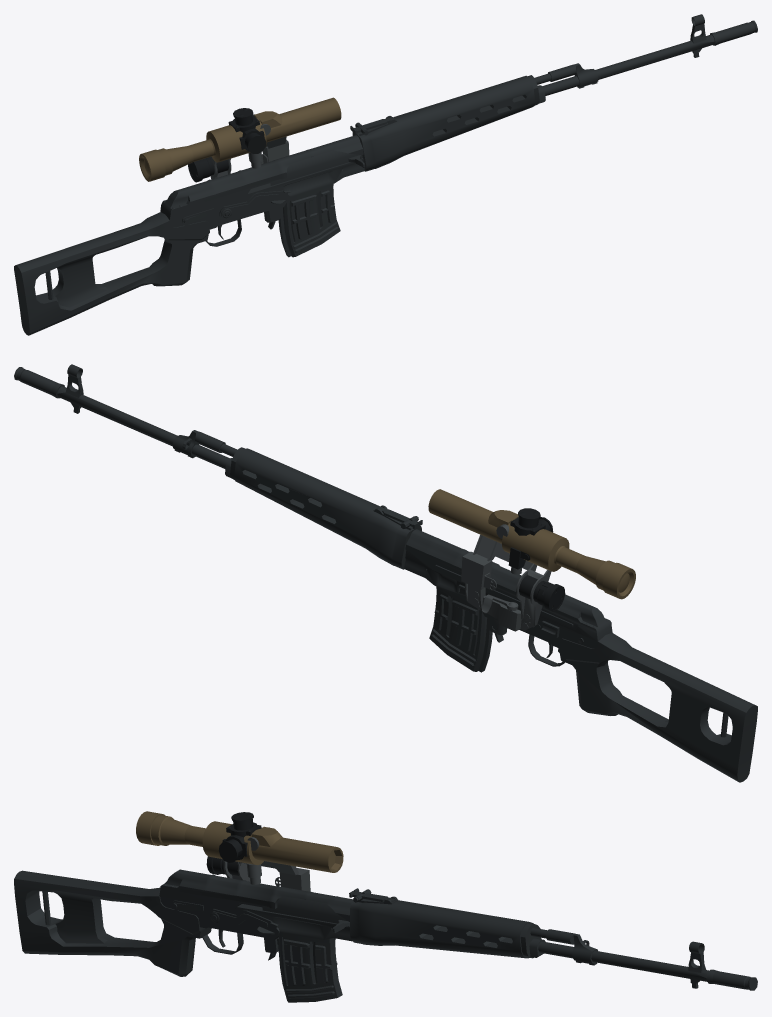
File: cuntgun.obj
The picture shows the model from 3 angles, top to bottom: view 1: azimuth 30°, elevation 25°; view 2: azimuth 150°, elevation 25°; view 3: azimuth 330°, elevation 25°; orthographic projection. The views are drawn at different scales.
Visible parts, largest first — view 1: part_1, part_4, part_3, part_2; view 2: part_1, part_4, part_2, part_3; view 3: part_1, part_4, part_3, part_2.
Part boxes in pixels (left/top/right/bottom): part_1: left=14, top=14, right=757, bottom=335; part_4: left=139, top=97, right=341, bottom=181; part_3: left=188, top=108, right=266, bottom=182; part_2: left=210, top=114, right=289, bottom=179; part_1: left=14, top=364, right=757, bottom=782; part_4: left=428, top=489, right=635, bottom=599; part_2: left=461, top=524, right=551, bottom=631; part_3: left=508, top=508, right=565, bottom=611; part_1: left=14, top=869, right=757, bottom=1002; part_4: left=136, top=811, right=343, bottom=872; part_3: left=206, top=812, right=261, bottom=875; part_2: left=222, top=827, right=310, bottom=891.
Bounding box in the file's own units: 1.41 × 0.3668 × 0.1711.
